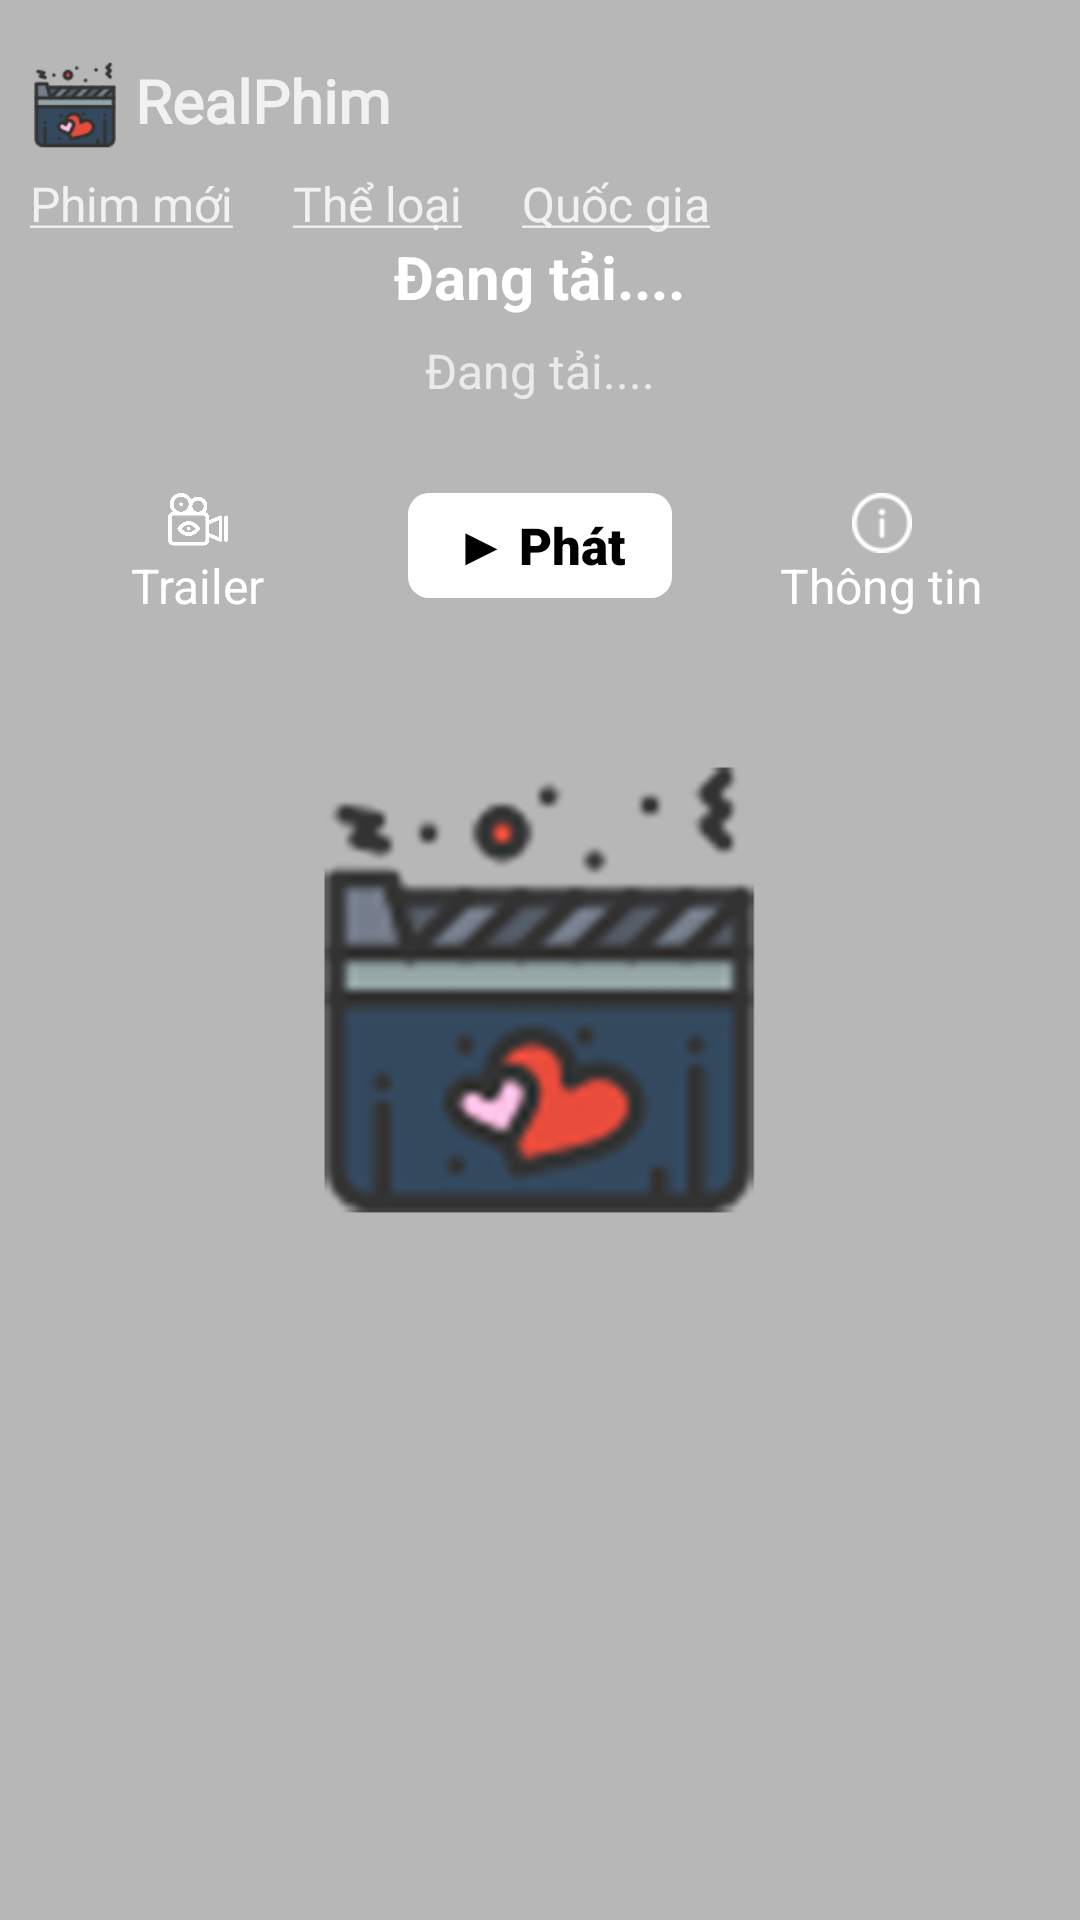

Icons on this 1080px×1920px Android screen, each with its box as (x1, y1, x2, y2):
video camera: (168, 493, 228, 546)
